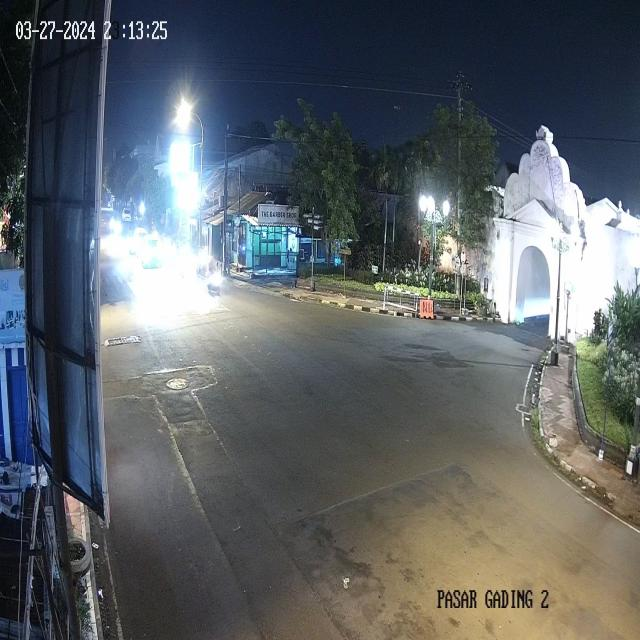car: (141, 233, 162, 273), (133, 226, 149, 256), (122, 207, 131, 222)
motorcycle: (206, 255, 222, 296), (196, 247, 205, 279)
